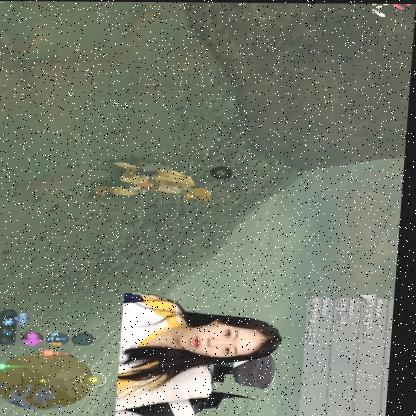streamer: (122, 291, 290, 400)
